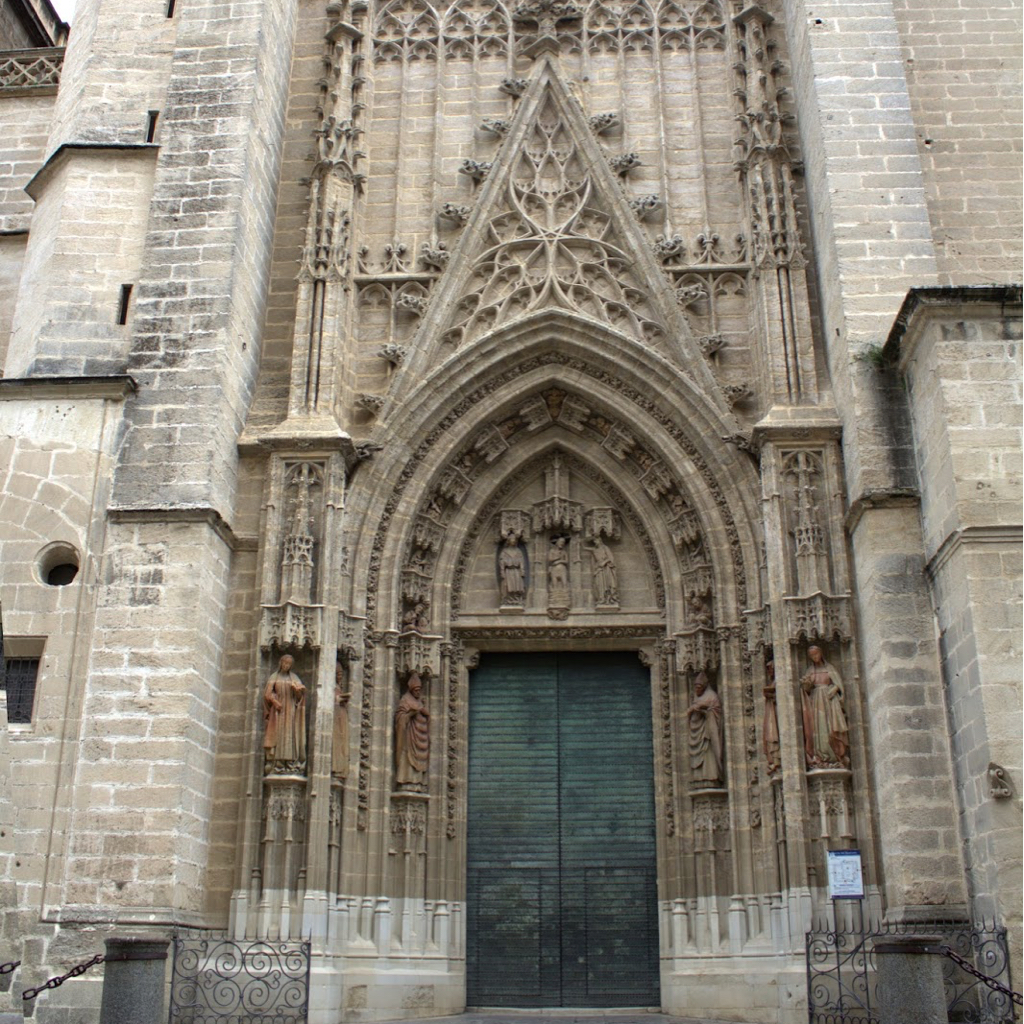arco-apuntado: (351, 302, 750, 601)
